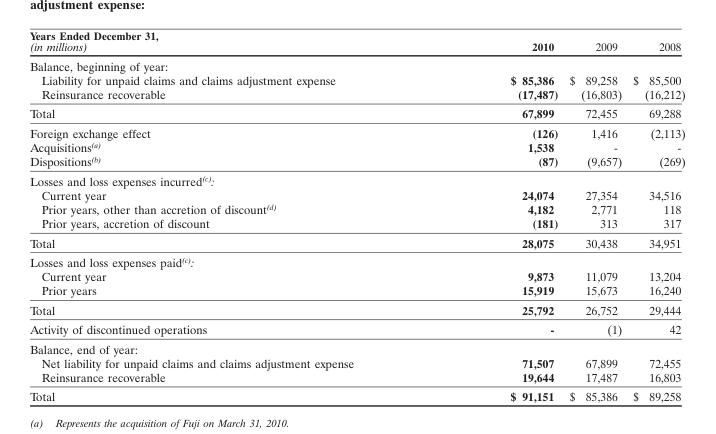table: (29, 28, 684, 403)
table column: (29, 28, 431, 403), (431, 28, 563, 403), (563, 28, 626, 403), (626, 28, 684, 403)
table column header: (29, 28, 684, 55)
table projected row header: (29, 55, 684, 72), (29, 170, 684, 187), (29, 252, 684, 269), (29, 338, 684, 355)
table row: (29, 28, 684, 55), (29, 103, 684, 123), (29, 232, 684, 252), (29, 300, 684, 319), (29, 319, 684, 338), (29, 55, 684, 72), (29, 86, 684, 103), (29, 170, 684, 187), (29, 252, 684, 269), (29, 283, 684, 300), (29, 338, 684, 355), (29, 369, 684, 386), (29, 386, 684, 403), (29, 123, 684, 139), (29, 154, 684, 170), (29, 216, 684, 232), (29, 139, 684, 154), (29, 201, 684, 216), (29, 72, 684, 86), (29, 187, 684, 201), (29, 269, 684, 283), (29, 355, 684, 369)
